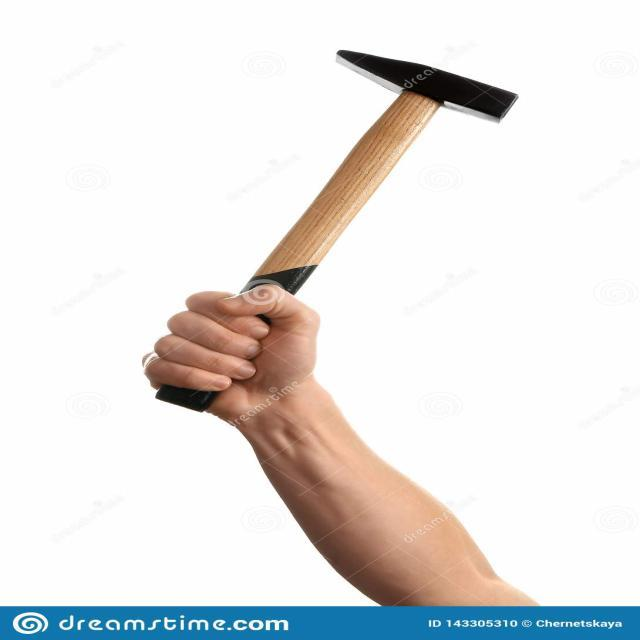hammer: (145, 34, 526, 416)
